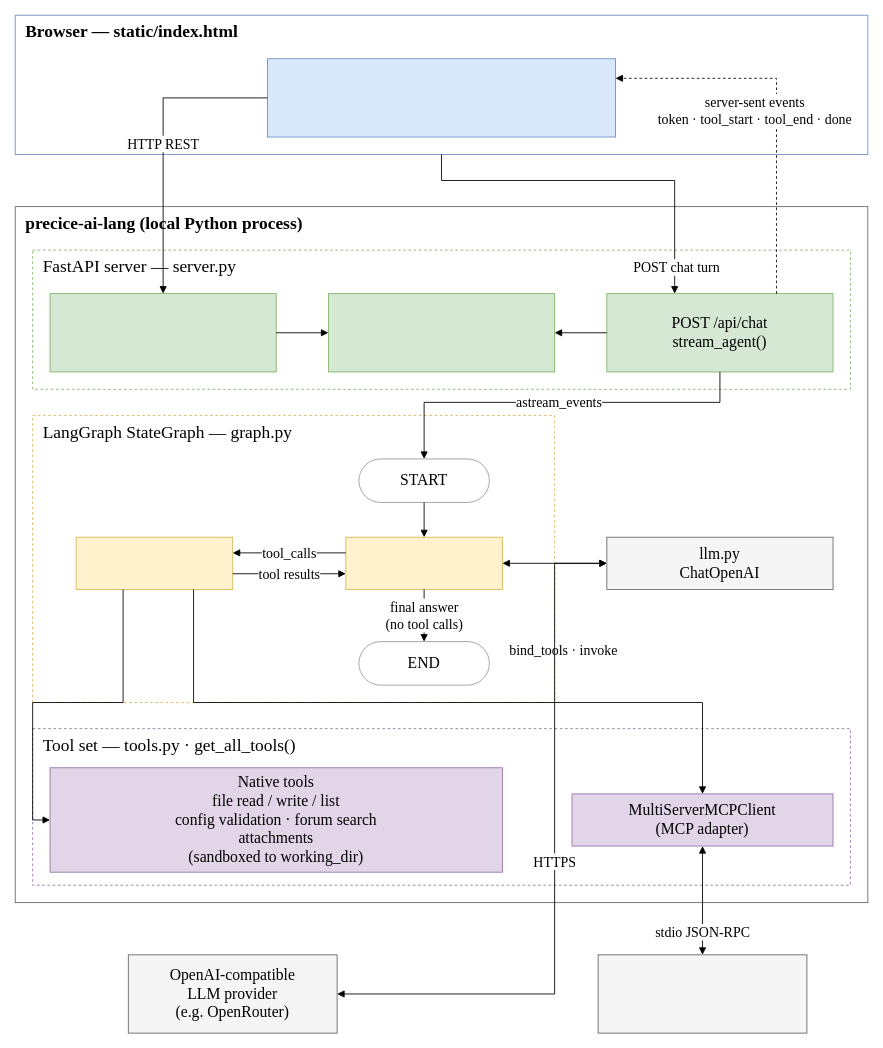
The diagram is 883 pixels wide and 1048 high, and some of its shapes have lost their labels. The centre of each missing label's shape, as x and y in pixels:
"agent node call_llm" belongs at (x=423, y=562).
"Chat UI session · working-dir picker attachments · tool cards · KB status" belongs at (x=441, y=97).
"In-memory sessions + attachments (conversation.py)" belongs at (x=441, y=332).
"preCICE MCP server (Chapter 4) subprocess" belongs at (x=702, y=993).
"REST endpoints /api/session · /workdir · /upload" belongs at (x=162, y=332).
"tools node ToolNode" belongs at (x=154, y=562).
